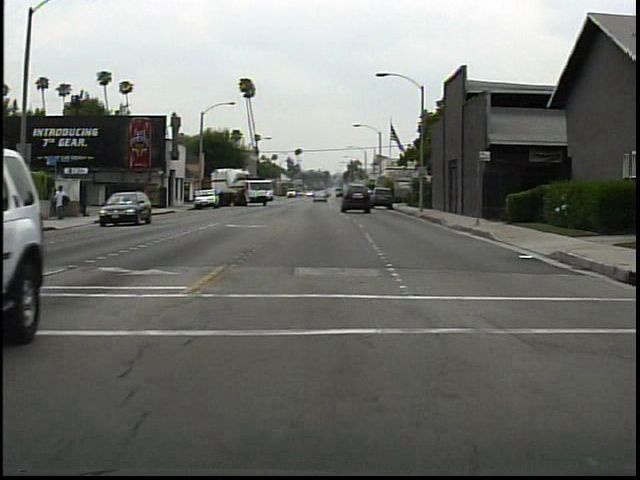person: (58, 182, 70, 225)
